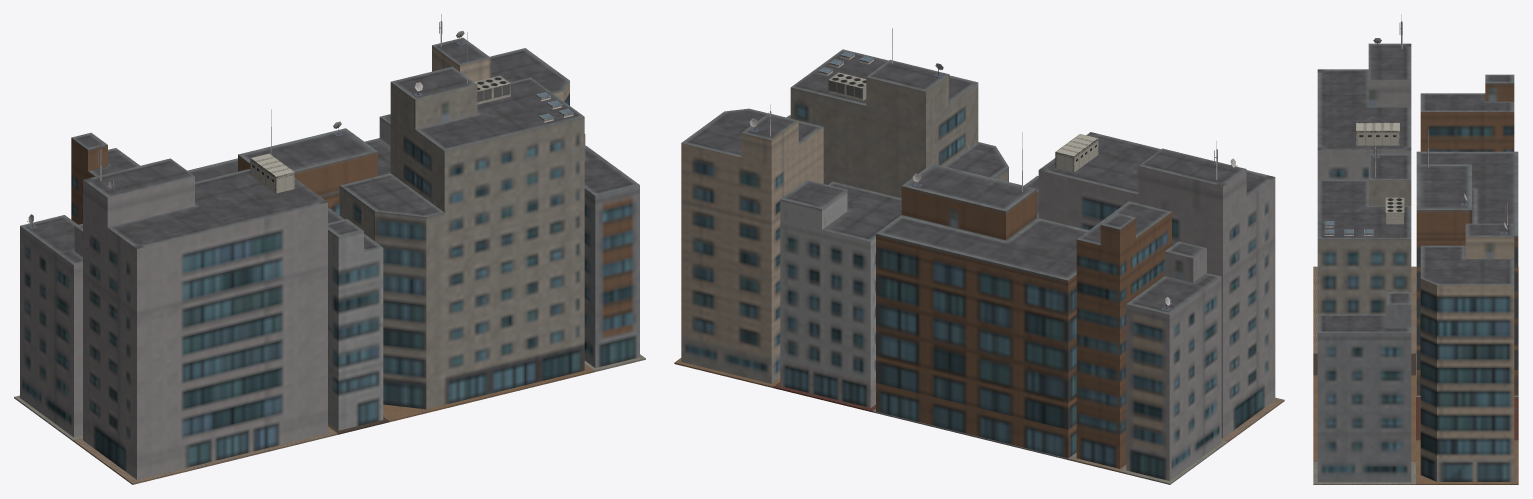
File: jctlowBldLowSetB.fbx
3 views of the same model, side by side, from view 1: azimuth 30°, elevation 25°; view 2: azimuth 150°, elevation 25°; view 3: azimuth 270°, elevation 25° (orthographic). The views are drawn at different scales.
Parts seen in each view (by area): view 1: jctlowBldLowSetB; view 2: jctlowBldLowSetB; view 3: jctlowBldLowSetB.
Boxes of the visible parts, x1=… form: jctlowBldLowSetB: x1=14, y1=14, x2=645, y2=484; jctlowBldLowSetB: x1=674, y1=28, x2=1284, y2=484; jctlowBldLowSetB: x1=1313, y1=14, x2=1518, y2=484.
Bounding box in the file's own units: 6000 × 3758 × 2400.
Materials: 8 (8 with a texture image).
